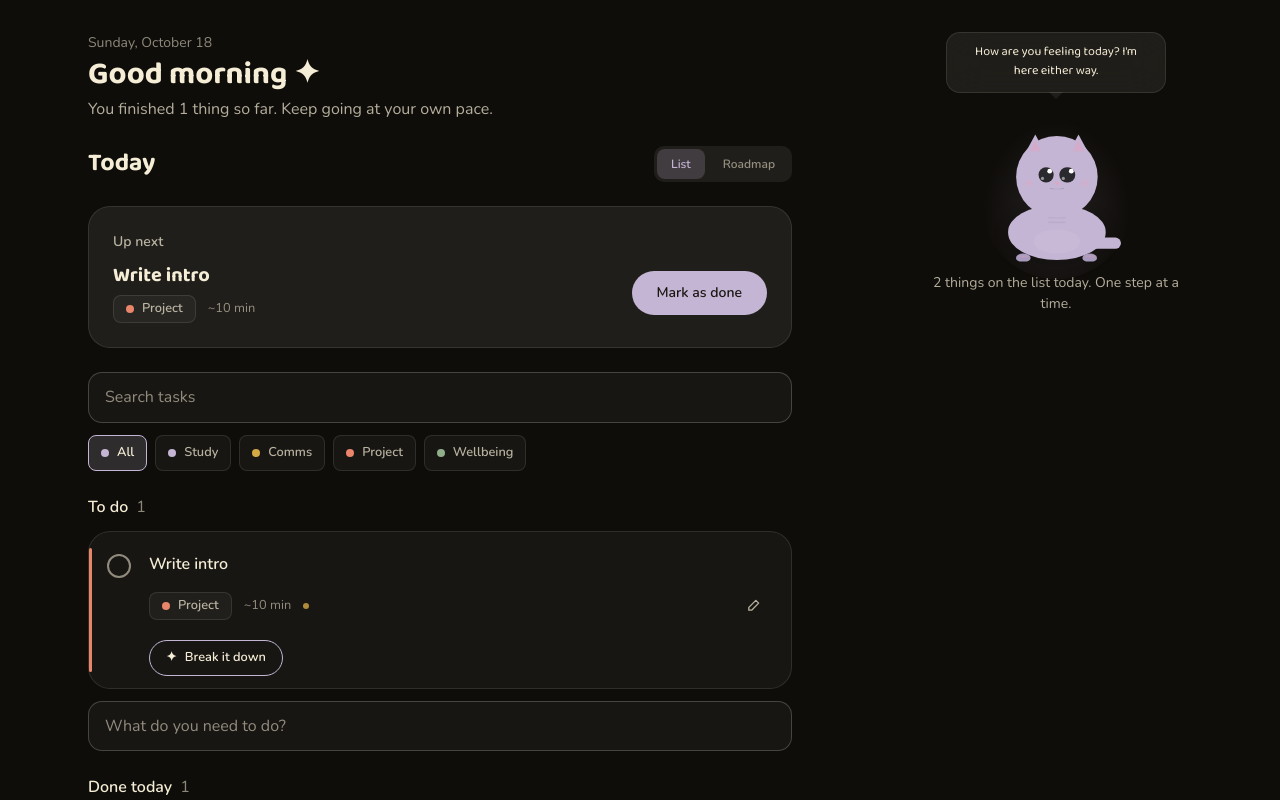
Test case: TodayView › completes the next task from "up next"
Click the button named "Mark \"Write intro\" as done".
click(699, 293)  # box [632,271,767,315]
(page scrolled)
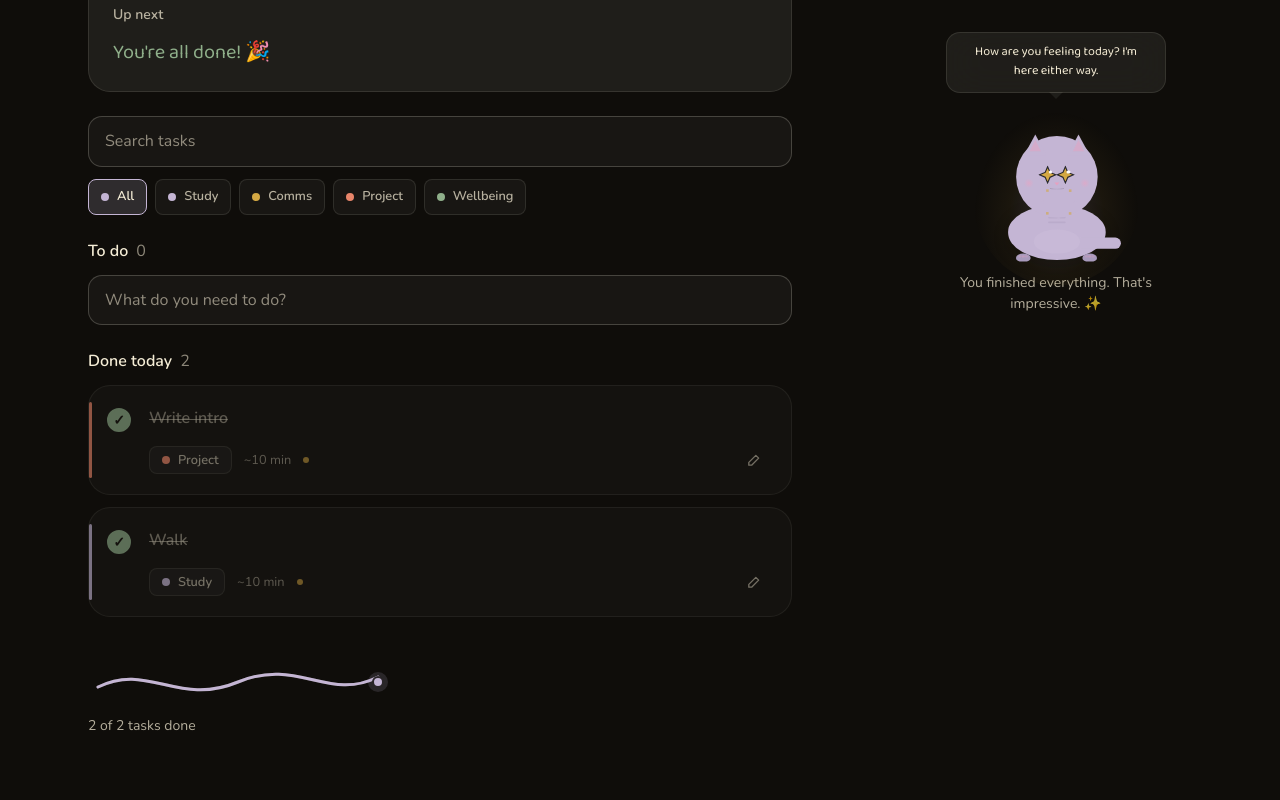
expect the text "You're all done! 🎉" is shown: met, box [113,36,270,68]
expect the text "2 of 2 tasks done" is shown: met, box [88,716,196,735]
